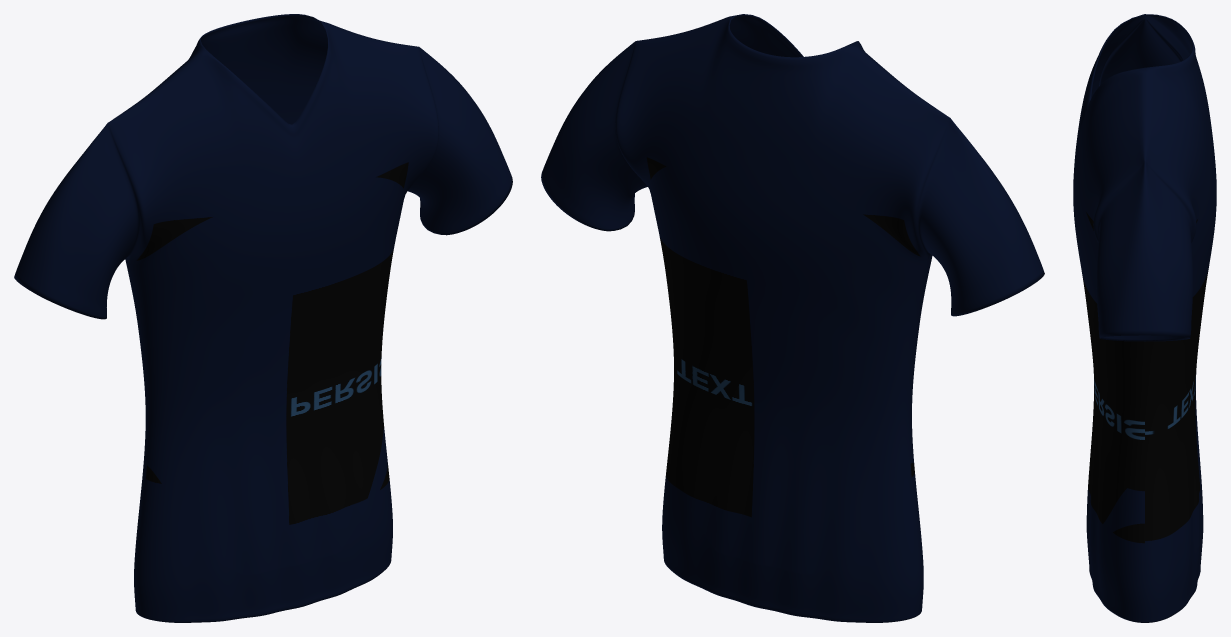
The model's file is durable-reopened.glb.
The picture shows the model from 3 angles, left to right: view 1: azimuth 30°, elevation 25°; view 2: azimuth 150°, elevation 25°; view 3: azimuth 270°, elevation 25°; orthographic projection. The views are drawn at different scales.
Visible parts, largest first — view 1: shirt_front, shirt_base, shoulder_right, shoulder_left, neck_patch_front, neck_patch_back, shoulder_patch_right, collar, side_patch_right, shirt_back, side_patch_left, shoulder_patch_left; view 2: shirt_back, shirt_base, shoulder_right, shoulder_left, neck_patch_back, shoulder_patch_right, collar, shirt_front, neck_patch_front, shoulder_patch_left; view 3: shoulder_left, shirt_back, shirt_front, shoulder_patch_left, shirt_base, shoulder_right, neck_patch_back, collar, side_patch_left, neck_patch_front, shoulder_patch_right.
Part boxes in pixels (box(x1,y1,x2,y2)): shirt_front: box(128, 177, 405, 622); shirt_base: box(84, 58, 489, 319); shoulder_right: box(45, 49, 231, 314); shoulder_left: box(296, 20, 512, 215); neck_patch_front: box(213, 40, 354, 178); neck_patch_back: box(189, 22, 313, 97); shoulder_patch_right: box(14, 124, 109, 298); collar: box(194, 14, 332, 136); side_patch_right: box(143, 465, 242, 575); shirt_back: box(125, 118, 296, 614); side_patch_left: box(339, 423, 387, 552); shoulder_patch_left: box(420, 48, 512, 184); shirt_back: box(649, 162, 929, 622); shirt_base: box(564, 92, 973, 316); shoulder_right: box(825, 43, 1012, 311); shoulder_left: box(541, 15, 758, 211); neck_patch_back: box(701, 32, 843, 164); shoulder_patch_right: box(948, 119, 1044, 295); collar: box(723, 14, 862, 68); shirt_front: box(909, 254, 932, 614); neck_patch_front: box(742, 20, 864, 57); shoulder_patch_left: box(541, 42, 634, 180); shoulder_left: box(1092, 68, 1196, 337); shirt_back: box(1145, 149, 1216, 622); shirt_front: box(1073, 163, 1144, 622); shoulder_patch_left: box(1115, 162, 1174, 335); shirt_base: box(1074, 71, 1214, 341); shoulder_right: box(1095, 14, 1189, 84); neck_patch_back: box(1162, 23, 1211, 158); collar: box(1085, 14, 1195, 114); side_patch_left: box(1091, 478, 1144, 548); neck_patch_front: box(1076, 25, 1127, 166); shoulder_patch_right: box(1126, 19, 1163, 71).
Bounding box in the file's own units: 2.78 × 3.03 × 0.7485.
1 material, 1 textured.
